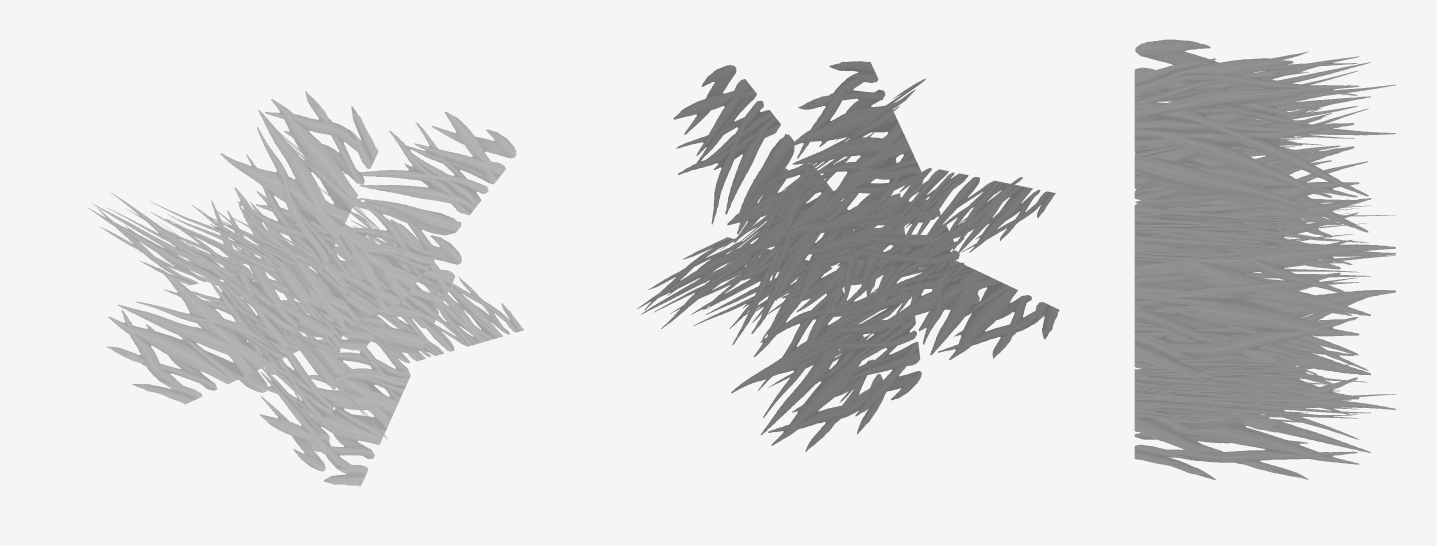
Rendered from mesh_1002_grass_02.FBX.
3 views of the same model, side by side, from view 1: azimuth 30°, elevation 25°; view 2: azimuth 150°, elevation 25°; view 3: azimuth 270°, elevation 25° (orthographic). The views are drawn at different scales.
Parts seen in each view (by area): view 1: mesh_1002_caofaxianon; view 2: mesh_1002_caofaxianon; view 3: mesh_1002_caofaxianon.
Part boxes in pixels (x1,y1,x2,y2): mesh_1002_caofaxianon: (88,90,523,486); mesh_1002_caofaxianon: (637,61,1059,452); mesh_1002_caofaxianon: (1134,39,1396,479).
Size of the model in its own units: 345 by 337 by 172.
Materials: 1 (1 with a texture image).
